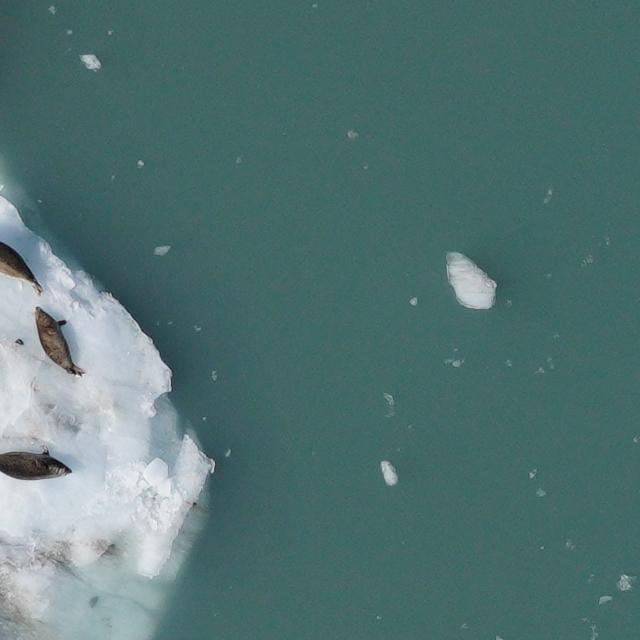seal: (32, 303, 90, 381), (0, 442, 78, 485), (0, 234, 48, 299)
